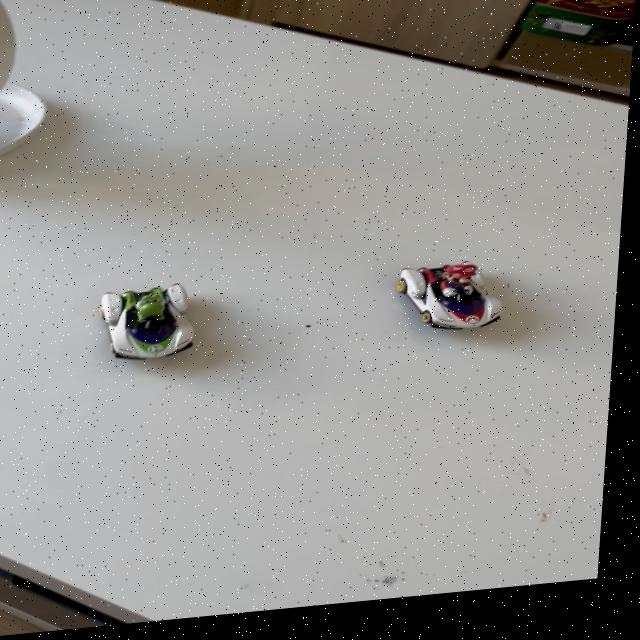mario: (383, 258, 534, 355)
yoshi: (87, 275, 228, 381)
